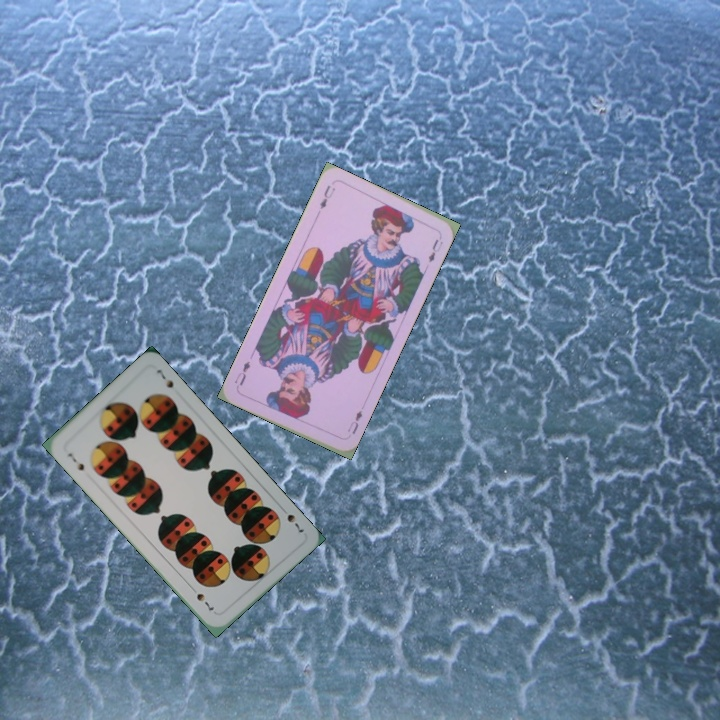EU: (315, 181, 338, 212), (343, 406, 365, 437)
S7: (277, 503, 307, 535), (63, 449, 87, 474)
